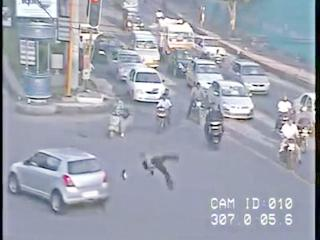Car: (9, 147, 110, 212), (208, 80, 254, 119), (229, 59, 270, 95), (125, 66, 166, 101), (126, 30, 160, 68), (155, 21, 195, 52), (185, 58, 222, 90), (113, 50, 145, 80), (95, 34, 126, 63), (193, 35, 226, 61), (293, 91, 316, 126), (168, 49, 196, 77), (78, 24, 103, 50), (122, 9, 143, 31)
Major Accident: (8, 146, 178, 213)
Motor: (109, 146, 177, 200), (105, 96, 132, 140), (278, 117, 301, 167), (204, 105, 224, 146), (295, 115, 314, 152), (154, 97, 172, 132), (188, 82, 205, 119), (275, 102, 294, 131), (155, 9, 164, 22)
